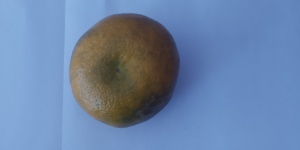BAD: (69, 14, 182, 128)
